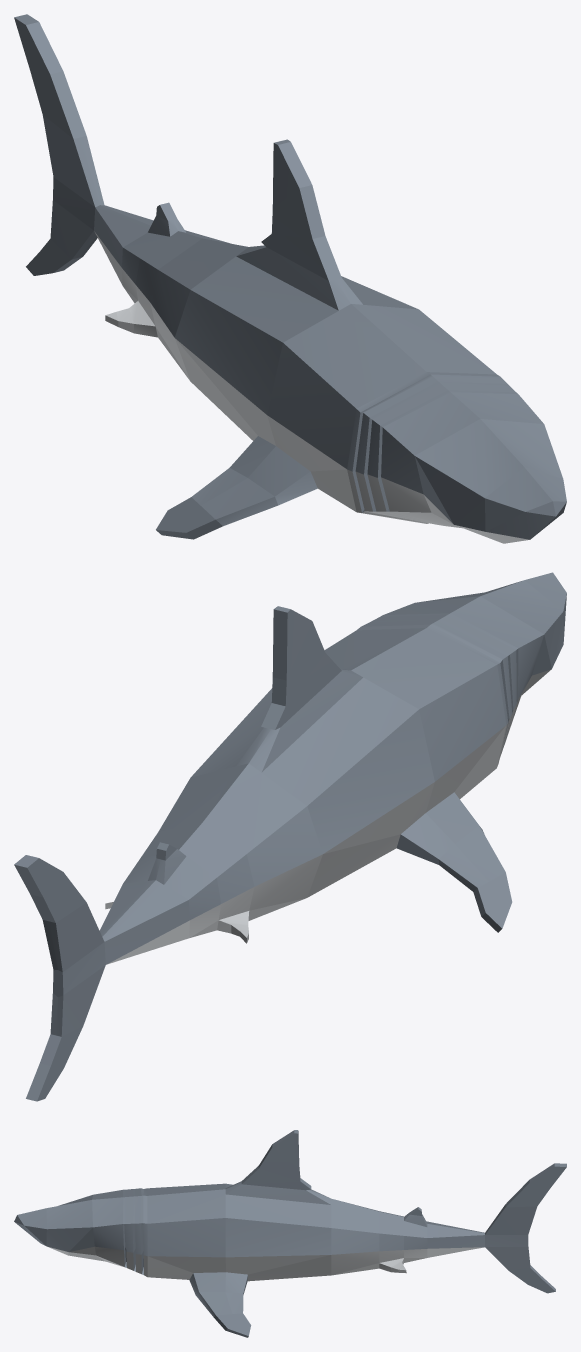
File: shark.glb
3 renders of one model, top to bottom at view 1: azimuth 30°, elevation 25°; view 2: azimuth 150°, elevation 25°; view 3: azimuth 270°, elevation 25°, orthographic. The views are drawn at different scales.
Parts seen in each view (by area): view 1: shark; view 2: shark; view 3: shark.
Part boxes in pixels (left/top/right/bottom): shark: left=14, top=14, right=566, bottom=543; shark: left=14, top=572, right=566, bottom=1101; shark: left=14, top=1130, right=566, bottom=1337.
Size of the model in its own units: 0.1121 by 0.0982 by 0.3.
